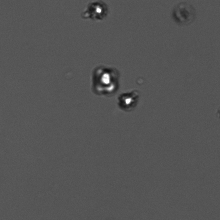Dead Cell: (171, 3, 197, 25)
Living Cell: (90, 62, 120, 96), (83, 1, 109, 20), (117, 89, 139, 111)
